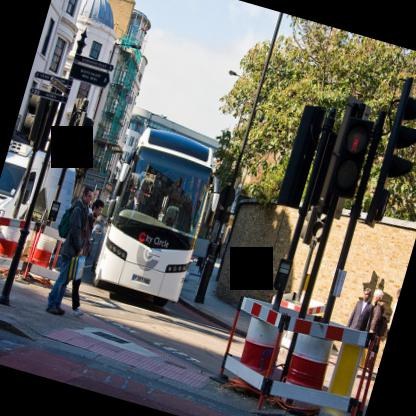backpack: (58, 204, 76, 239), (376, 307, 388, 337)
handbag: (68, 253, 87, 282)
suitcase: (68, 255, 85, 280)
